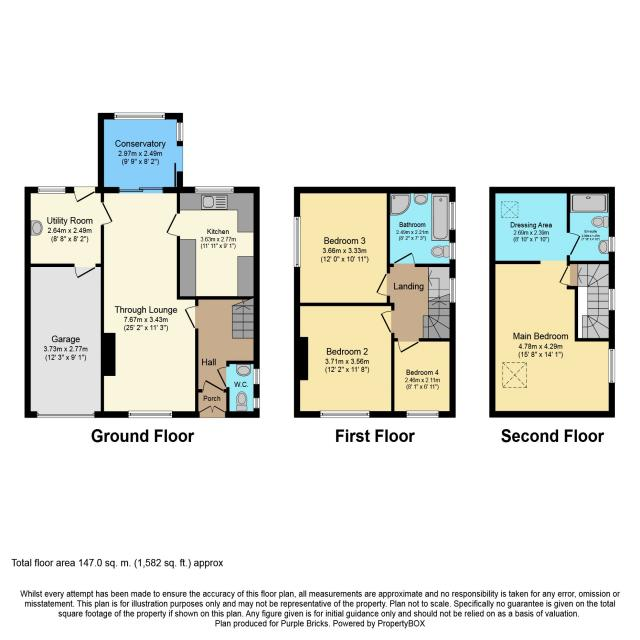DOOR: (73, 263, 97, 280), (72, 187, 96, 204), (379, 309, 395, 334), (183, 305, 199, 330), (375, 272, 390, 297), (165, 212, 180, 237), (397, 338, 420, 354), (393, 251, 415, 267), (567, 232, 581, 256), (216, 366, 230, 388), (202, 379, 224, 393), (101, 202, 114, 225), (558, 265, 570, 286)
ROOM: (97, 187, 199, 418), (489, 261, 615, 418), (294, 303, 395, 418), (294, 186, 390, 306), (164, 185, 261, 301), (97, 112, 183, 194), (391, 338, 456, 418)
SLIDING DOOR: (119, 187, 163, 194)
WINDOW: (113, 112, 166, 120), (293, 216, 301, 268), (320, 410, 370, 418), (128, 410, 173, 418), (194, 186, 235, 194), (608, 348, 616, 384), (406, 410, 440, 418), (449, 201, 457, 231), (37, 186, 66, 194), (449, 277, 457, 304), (449, 201, 456, 231), (608, 288, 616, 311), (176, 122, 184, 142), (449, 242, 457, 260), (252, 368, 260, 385), (608, 236, 615, 253), (252, 397, 260, 409)
